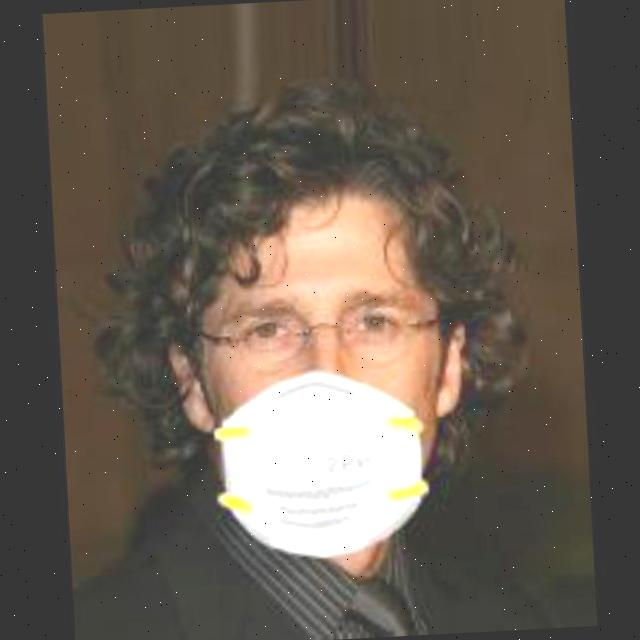suspicion: (156, 132, 498, 570)
